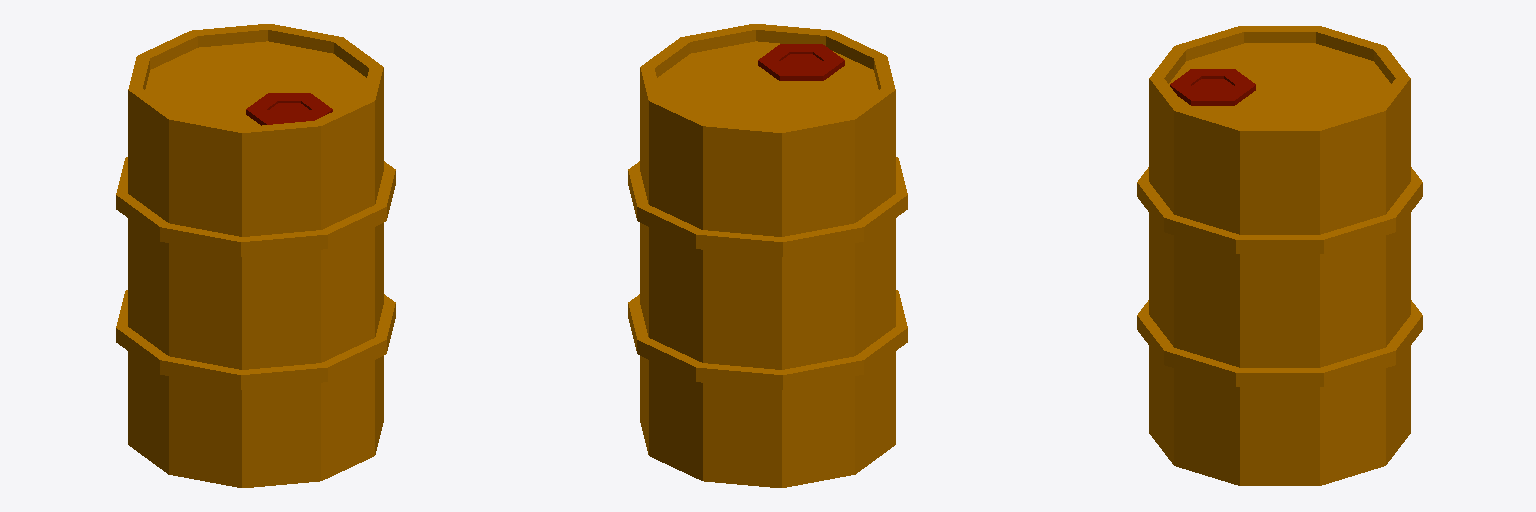
Rendered from OilDrum_04.obj.
The picture shows the model from 3 angles: view 1: azimuth 30°, elevation 25°; view 2: azimuth 150°, elevation 25°; view 3: azimuth 270°, elevation 25°; orthographic projection.
Visible parts, largest first — view 1: OilDrum_04_Cylinder.007; view 2: OilDrum_04_Cylinder.007; view 3: OilDrum_04_Cylinder.007.
Boxes of the visible parts, x1,y1,x2,y2 form: OilDrum_04_Cylinder.007: [116, 24, 395, 487]; OilDrum_04_Cylinder.007: [628, 24, 907, 487]; OilDrum_04_Cylinder.007: [1137, 26, 1422, 485].
Bounding box in the file's own units: 3.26 × 4.7 × 3.43.